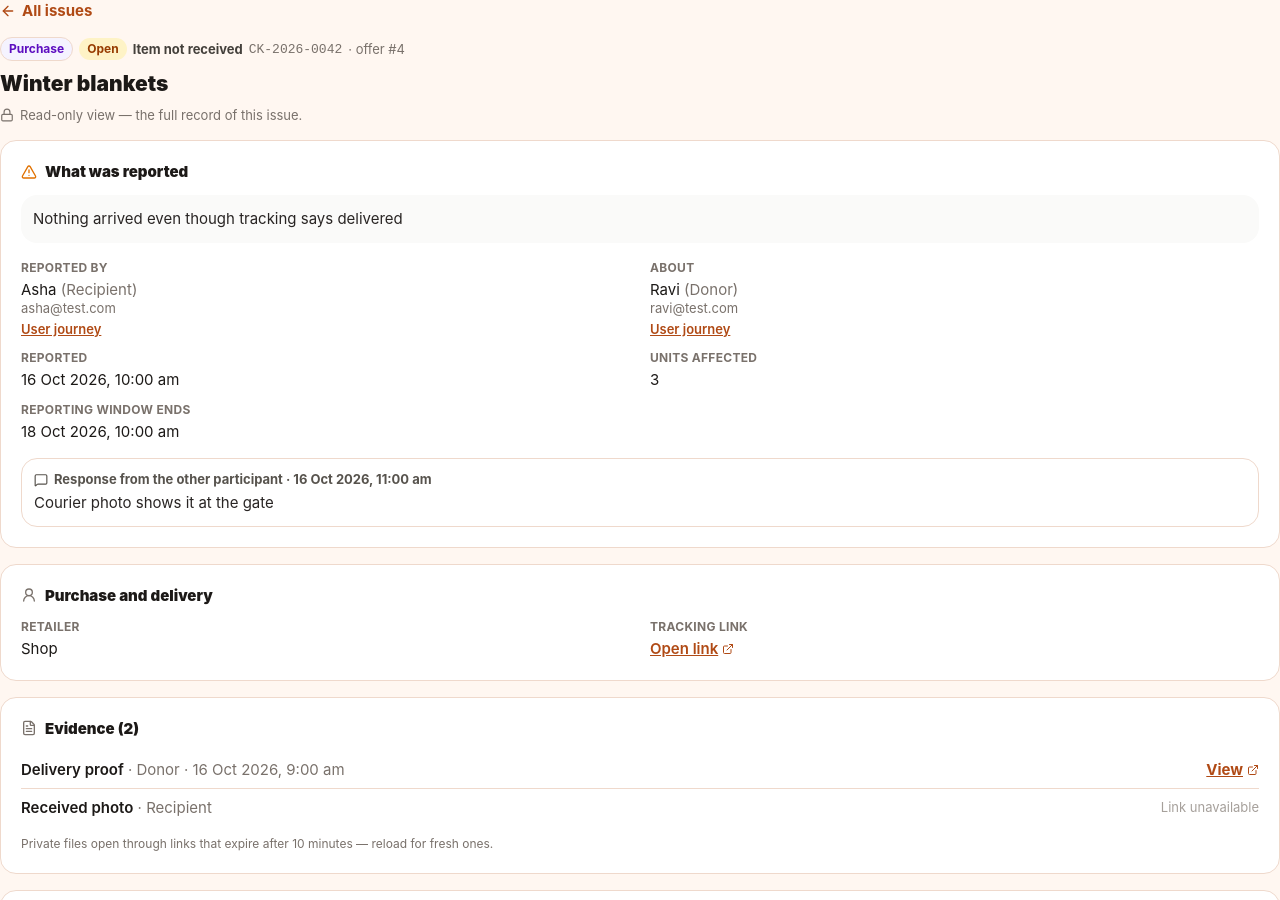
it: IssuesPanel › opens straight to an issue from a deep link and goes back to the list
The width and height of the screenshot is (1280, 900).
Click the button "All issues": [46, 11] box top-left (0, 0), bottom-right (92, 21)
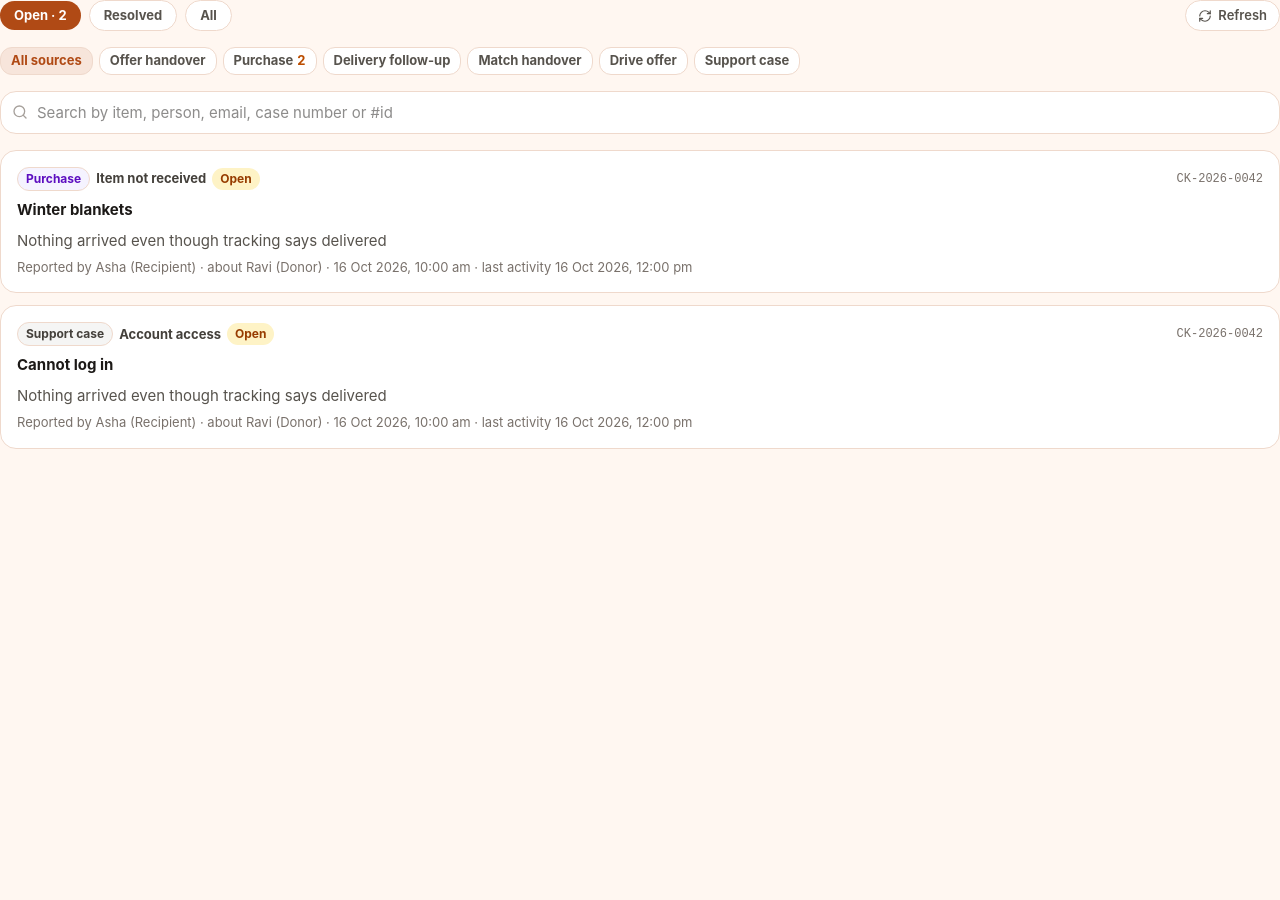
Result: the button with aria-label "Open issue: Winter blankets" is shown at top-left (0, 150), bottom-right (1279, 293)
